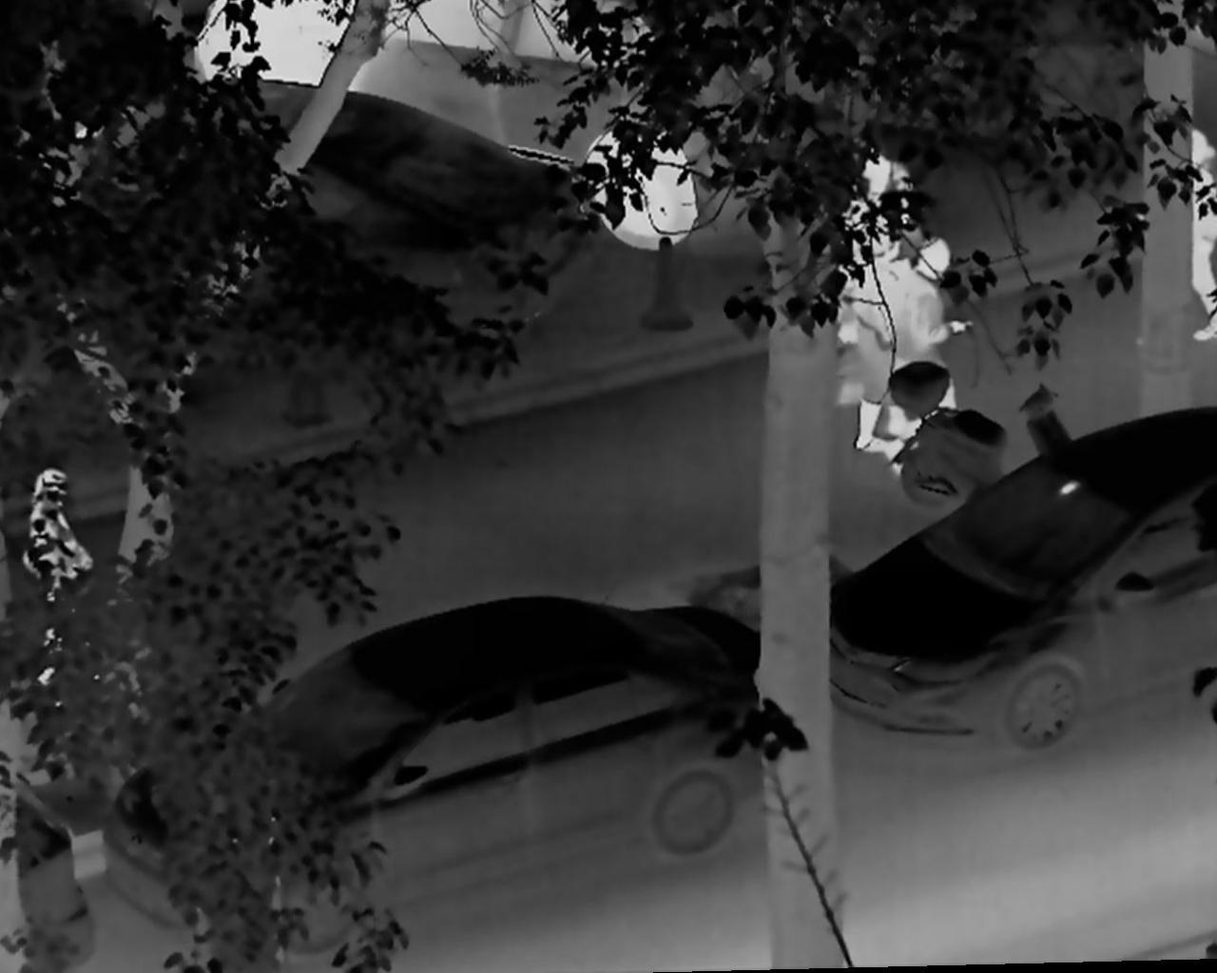person: (891, 232, 977, 480), (24, 468, 107, 696), (855, 221, 921, 462), (826, 184, 881, 412), (1171, 115, 1217, 350), (848, 143, 916, 210)
